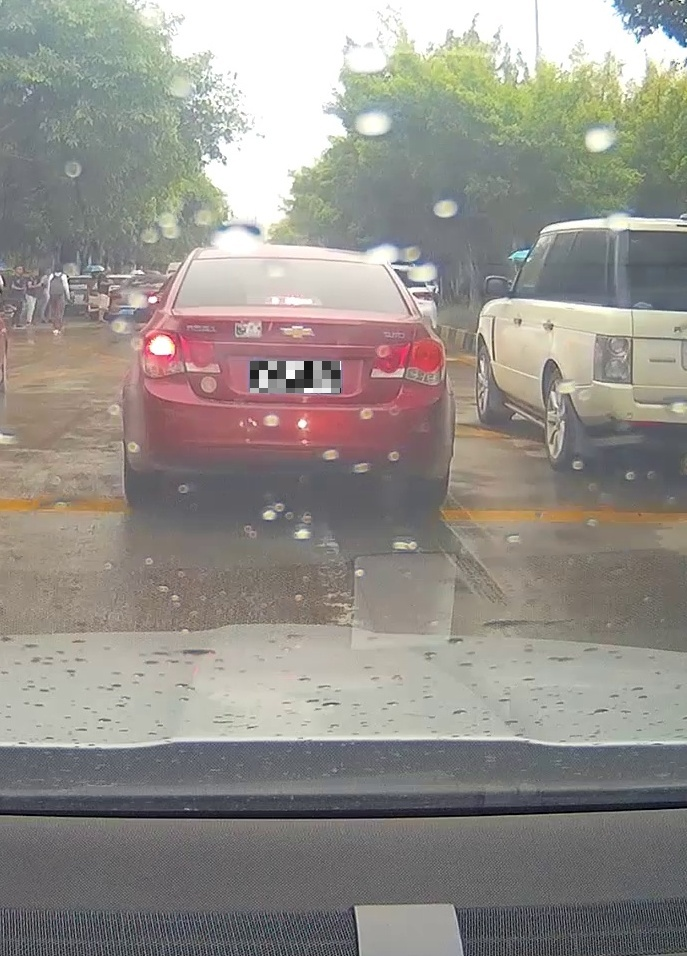L_light: (138, 329, 222, 378)
R_light: (370, 337, 446, 385)
T_light: (267, 295, 319, 305)
day-left: (122, 244, 456, 508)
plate_1: (250, 361, 341, 393)
